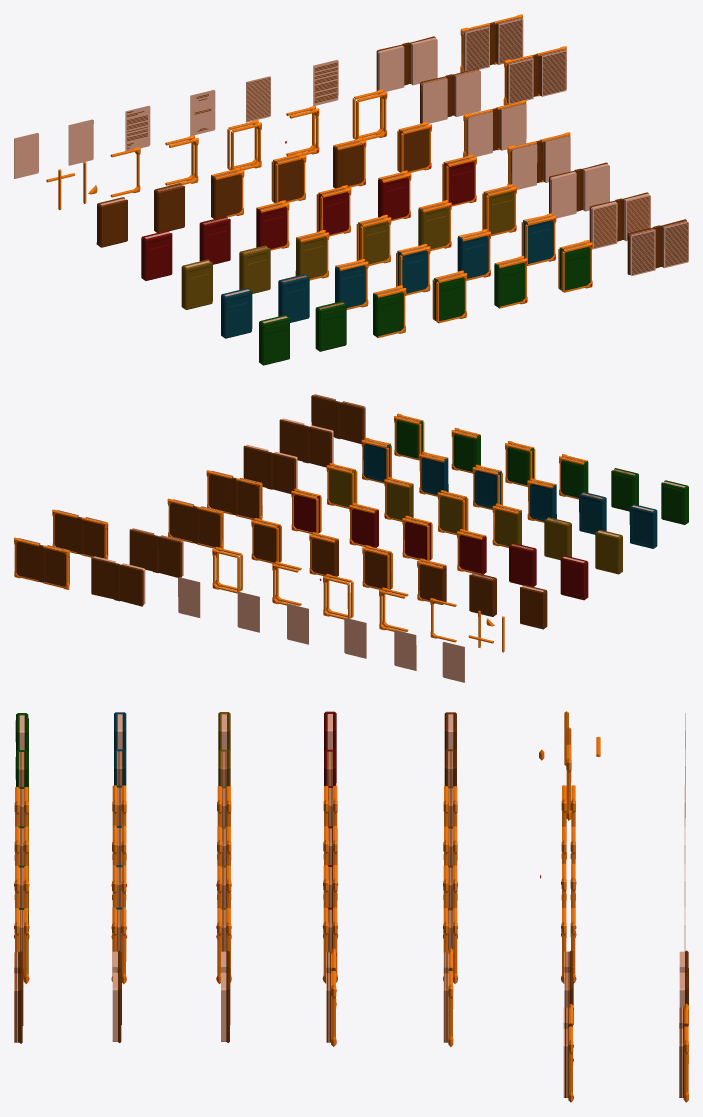
Rendered from BooksAndTomes.fbx.
3 renders of one model, top to bottom at view 1: azimuth 30°, elevation 25°; view 2: azimuth 150°, elevation 25°; view 3: azimuth 270°, elevation 25°, orthographic. The views are drawn at different scales.
Visible parts, largest first — view 1: BookBasicOpenWriting_2, BookOpen_1, BookBasicOpenWriting_1, BookBasicOpenWritingTemplate2, BookOpen_2, BookBasicOpen, BookOpen, BookBasicOpenWritingTemplate, BookBasicOpenWriting, Book4_2, Book4_4, Book3_4 (+37 smaller); view 2: BookBasicOpenWriting_1, BookOpen_1, BookOpen_2, BookBasicOpenWriting_2, BookBasicOpen, BookOpen, BookBasicOpenWriting, BookBasicOpenWritingTemplate, BookBasicOpenWritingTemplate2, Book2_4, Book4_4, Book_4 (+37 smaller); view 3: BookBasicOpenWriting_2, BookOpen_1, BookOpen_2, BookBasicOpenWriting_1, BookBasicOpenWriting, BookBasicOpenWritingTemplate, BookBasicOpenWritingTemplate2, Book3_4, Book1_4, Book4_4, Book_4, Book2_4 (+10 smaller).
Part boxes in pixels (x1,y1,x2,y2): BookBasicOpenWriting_2: (503,46,566,105); BookOpen_1: (463,100,526,157); BookBasicOpenWriting_1: (460,14,523,72); BookBasicOpenWritingTemplate2: (627,219,688,275); BookOpen_2: (507,132,570,189); BookBasicOpen: (376,36,437,92); BookOpen: (420,68,480,123); BookBasicOpenWritingTemplate: (549,162,609,218); BookBasicOpenWriting: (589,192,650,248); Book4_2: (432,270,467,323); Book4_4: (558,240,592,292); Book3_4: (521,213,556,265); BookBasicOpenWriting_1: (14,537,69,589); BookOpen_1: (167,498,223,548); BookOpen_2: (206,470,262,520); BookBasicOpenWriting_2: (52,509,108,559); BookBasicOpen: (91,556,145,606); BookOpen: (129,528,183,577); BookBasicOpenWriting: (279,418,333,467); BookBasicOpenWritingTemplate: (243,444,297,493); BookBasicOpenWritingTemplate2: (311,394,365,444); Book2_4: (326,463,357,508); Book4_4: (394,413,424,460); Book_4: (251,518,281,563); BookBasicOpenWriting_2: (563,1003,573,1102); BookOpen_1: (443,948,453,1046); BookOpen_2: (326,948,336,1046); BookBasicOpenWriting_1: (679,1003,688,1102); BookBasicOpenWriting: (112,950,121,1042); BookBasicOpenWritingTemplate: (221,950,230,1042); BookBasicOpenWritingTemplate2: (14,951,23,1043); Book3_4: (111,907,126,984); Book1_4: (322,907,337,983); Book4_4: (14,908,29,983); Book_4: (443,908,457,983); Book2_4: (216,908,231,983).
Bounding box in the file's own units: 5281 × 476 × 4515.
